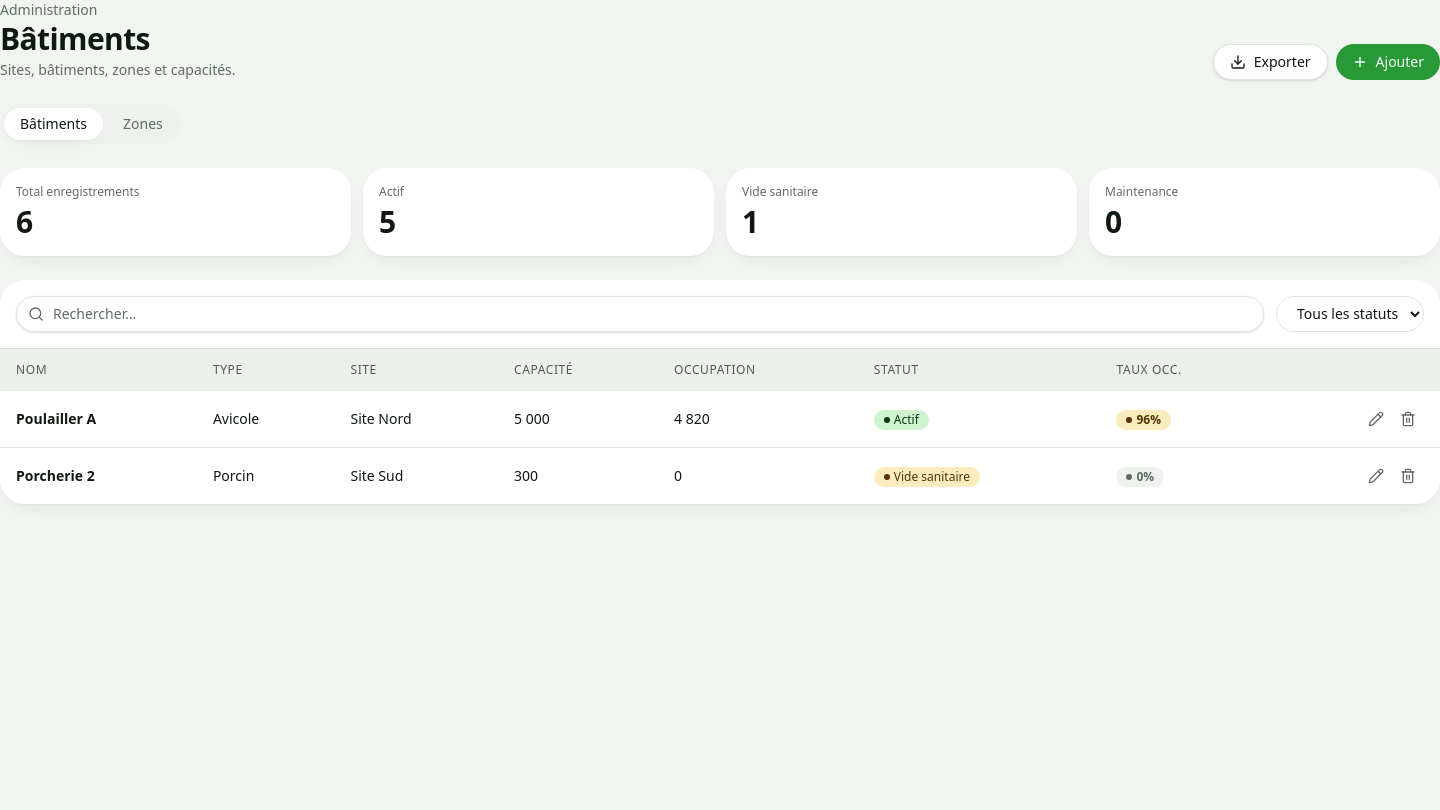
Test: ModulePage with the batiments config › keeps the dialog open and shows the server message on a 409
Expected: the text "Poulailler A" is shown, [0,390,197,447]
Click the button "Ajouter" at coordinates (1388, 62), box [1336,44,1439,80]
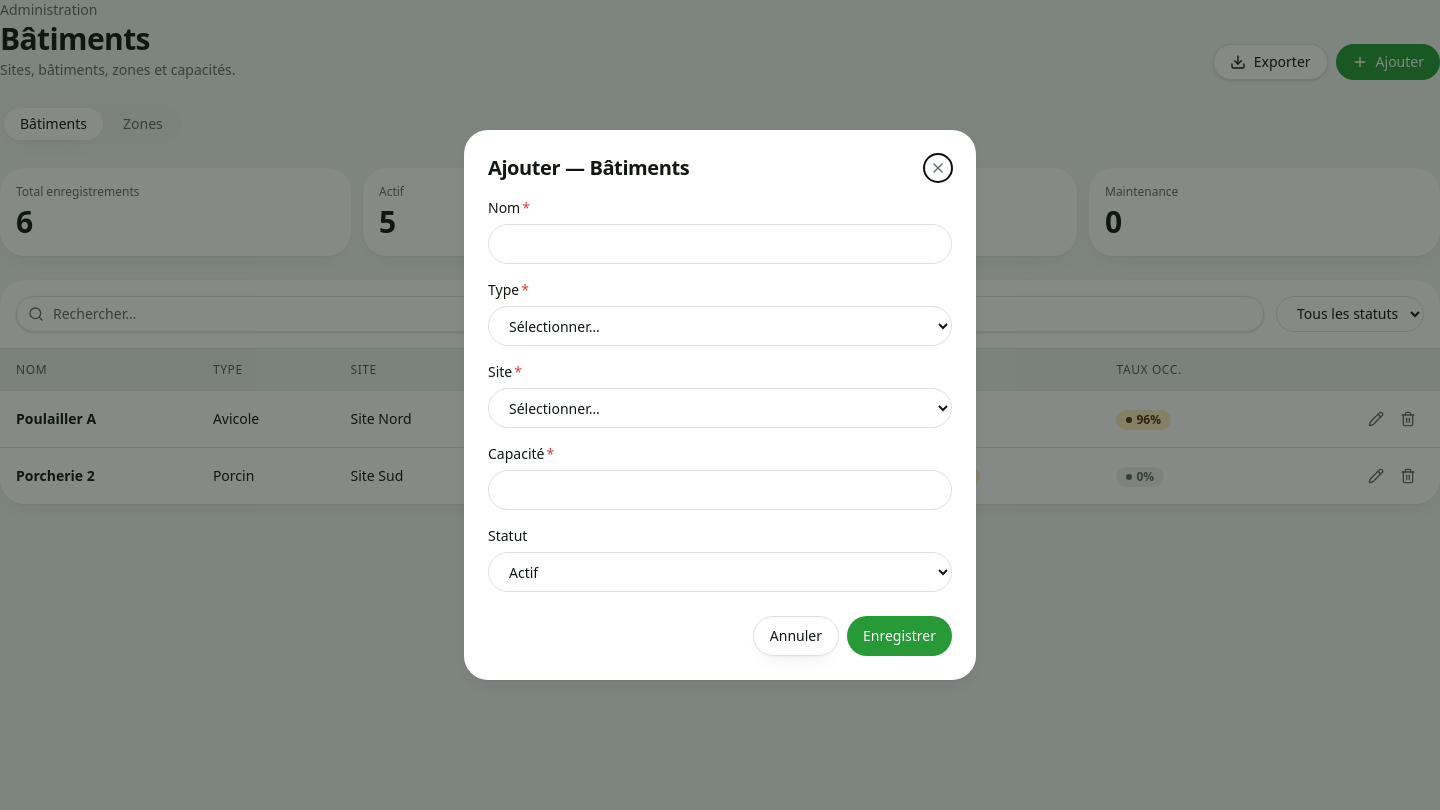
Type "Poulailler A" into the field labelled "Nom" at coordinates (720, 244), box [488,224,952,264]
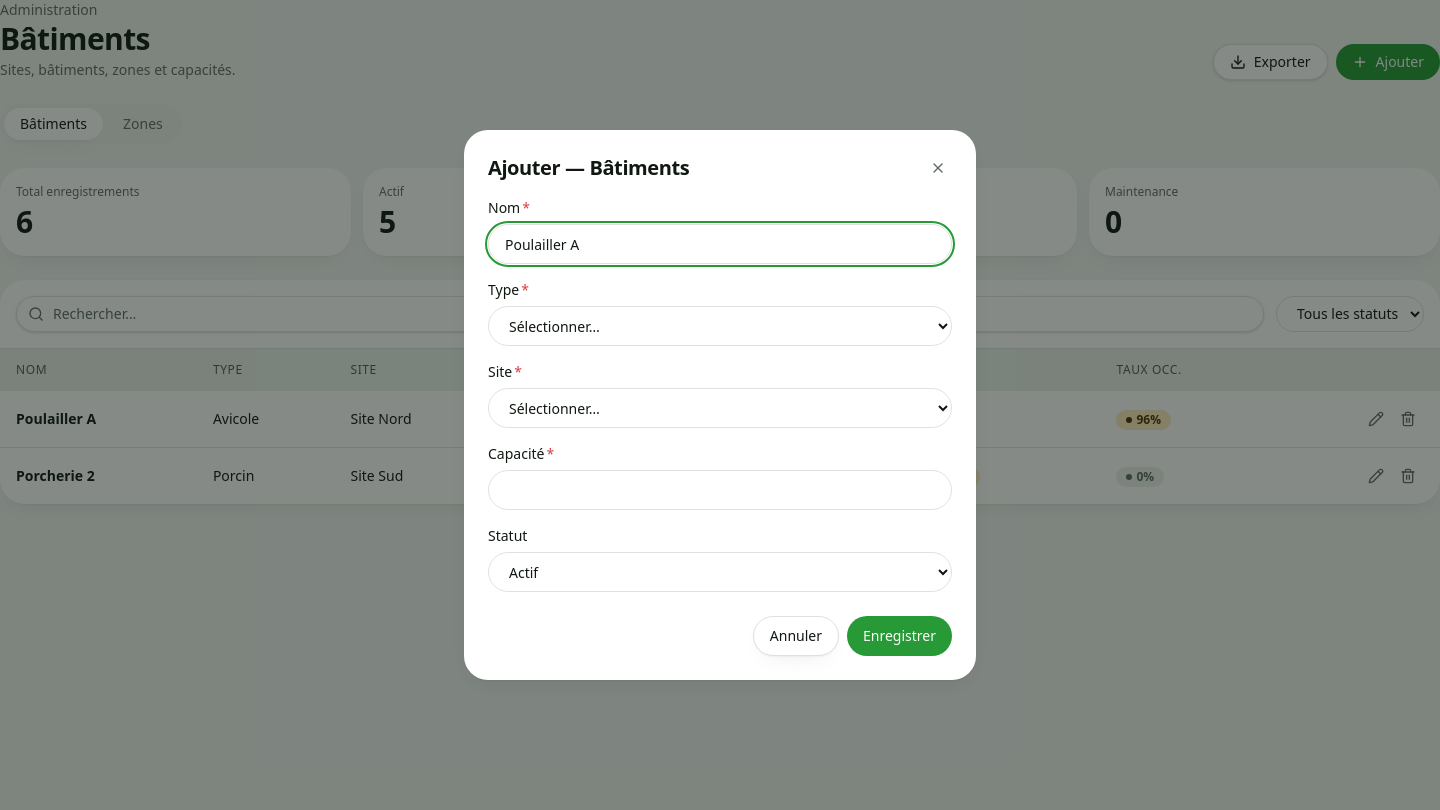
Select "Avicole" in the dropdown labelled "Type" at coordinates (720, 326), box [488,306,952,346]
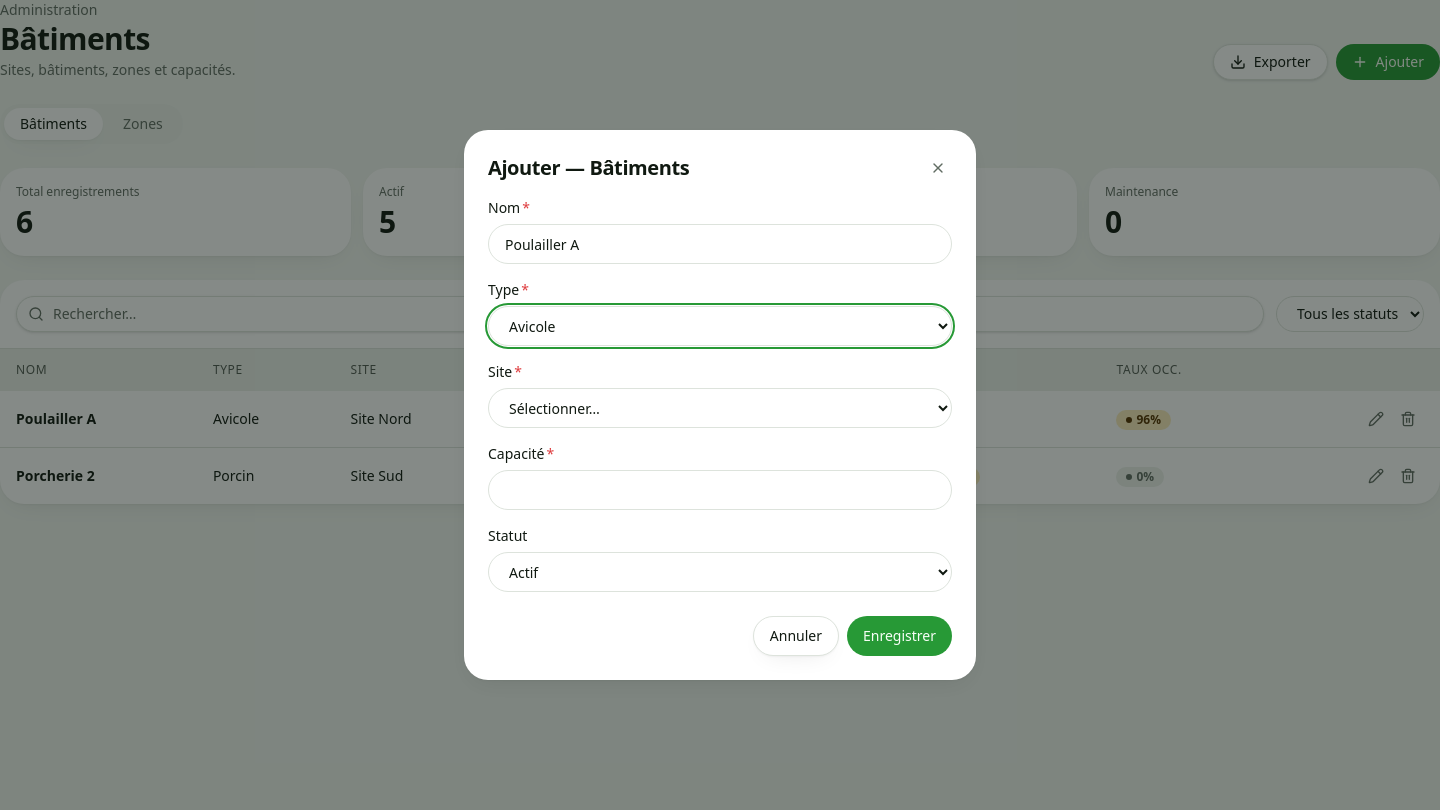
Select "Site Nord" in the dropdown labelled "Site" at coordinates (720, 408), box [488,388,952,428]
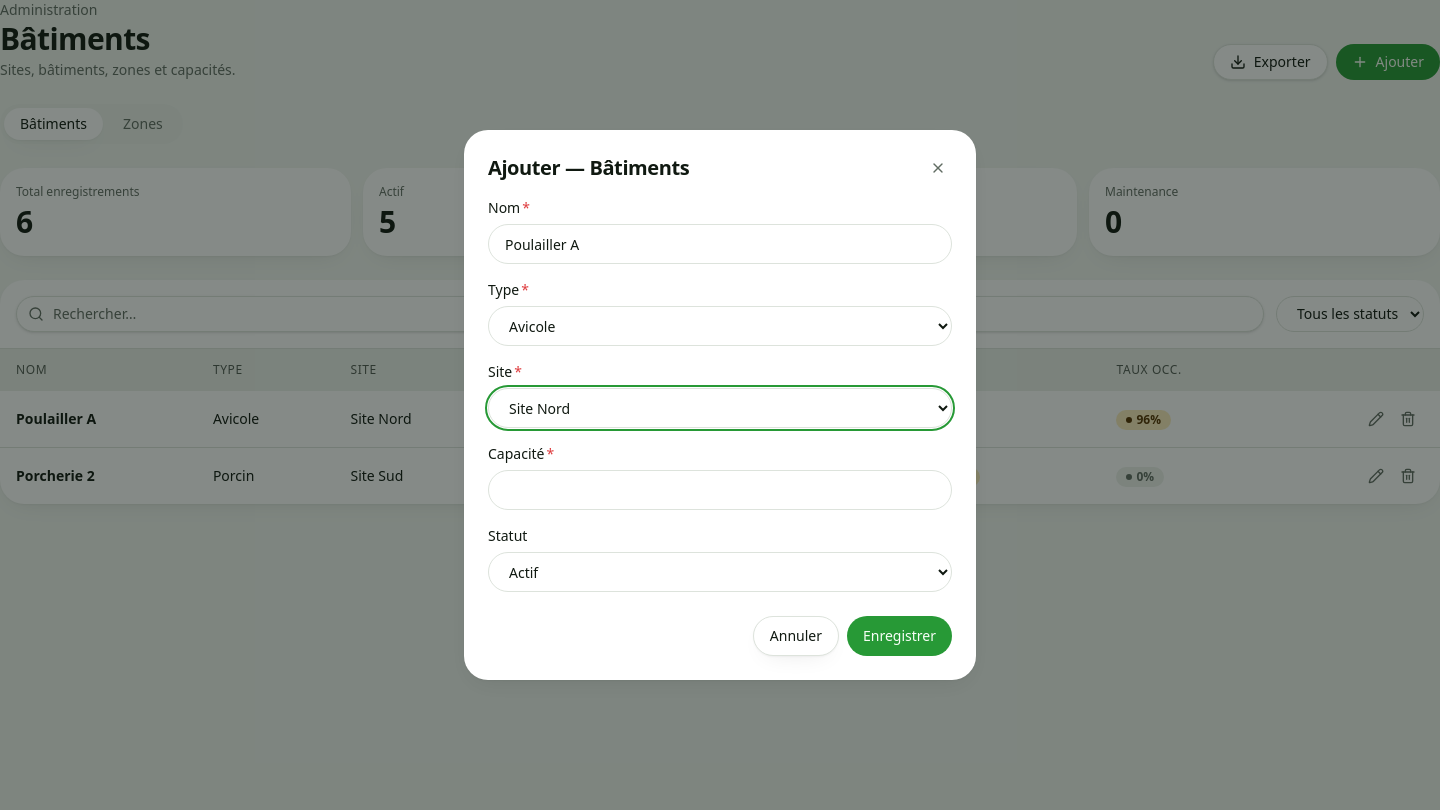
Type "10" into the number field labelled "Capacité" at coordinates (720, 490), box [488,470,952,510]
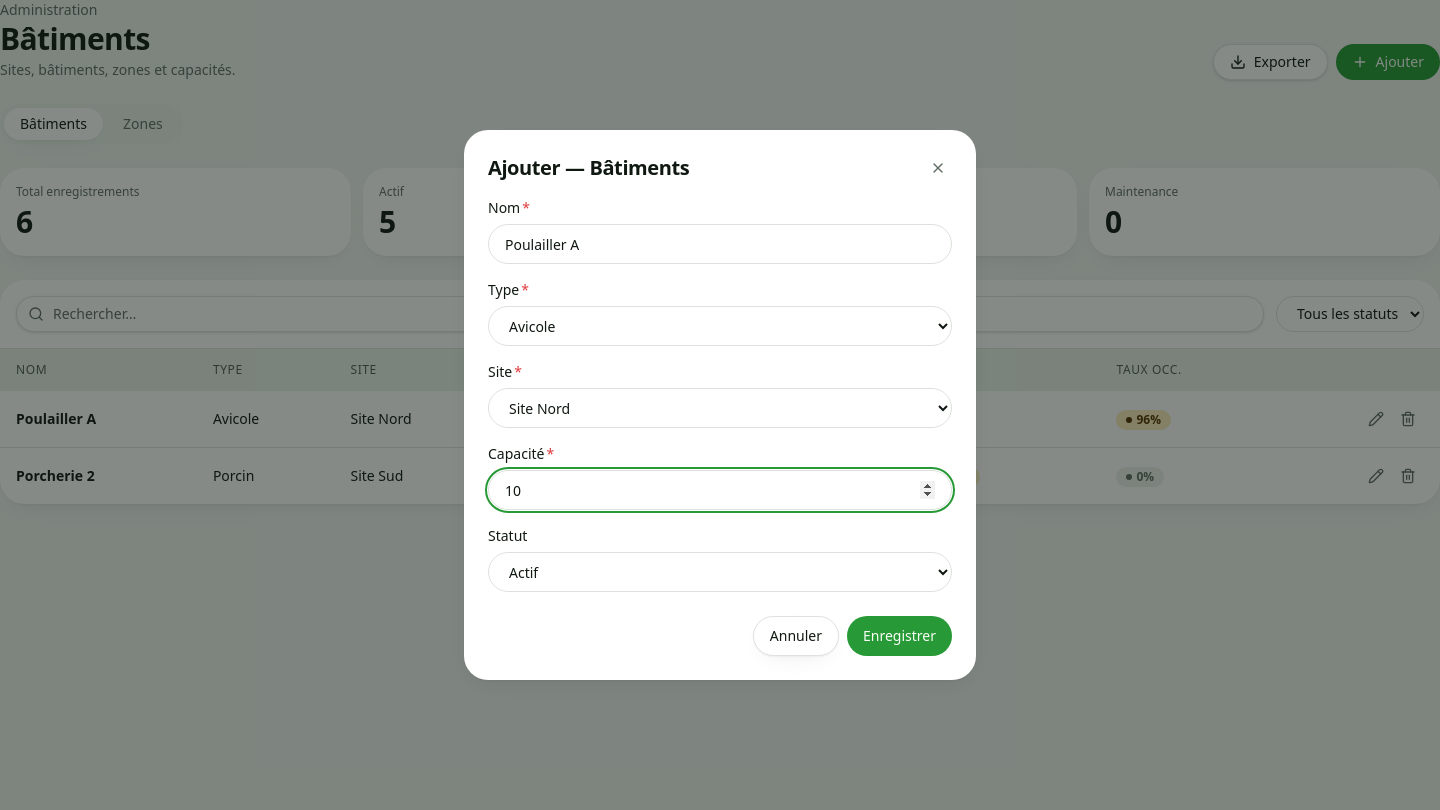
Click the button "Enregistrer" at coordinates (900, 636), box [847,616,952,656]
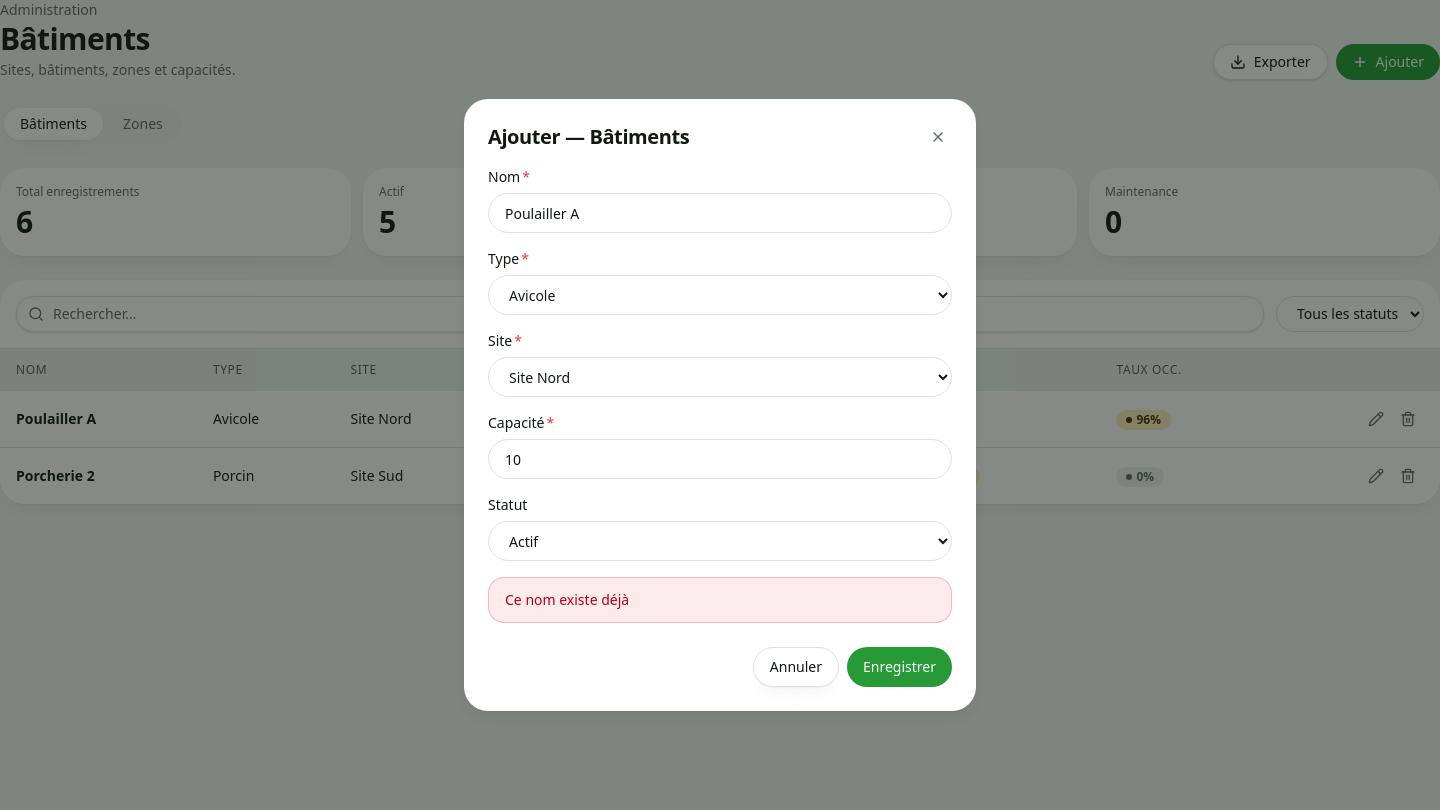
Expected: the dialog is shown, [464,99,976,711]
Expected: the button "Enregistrer" is enabled, [847,647,952,687]
Expected: the text "Ce nom existe déjà" is shown, [488,577,952,623]
